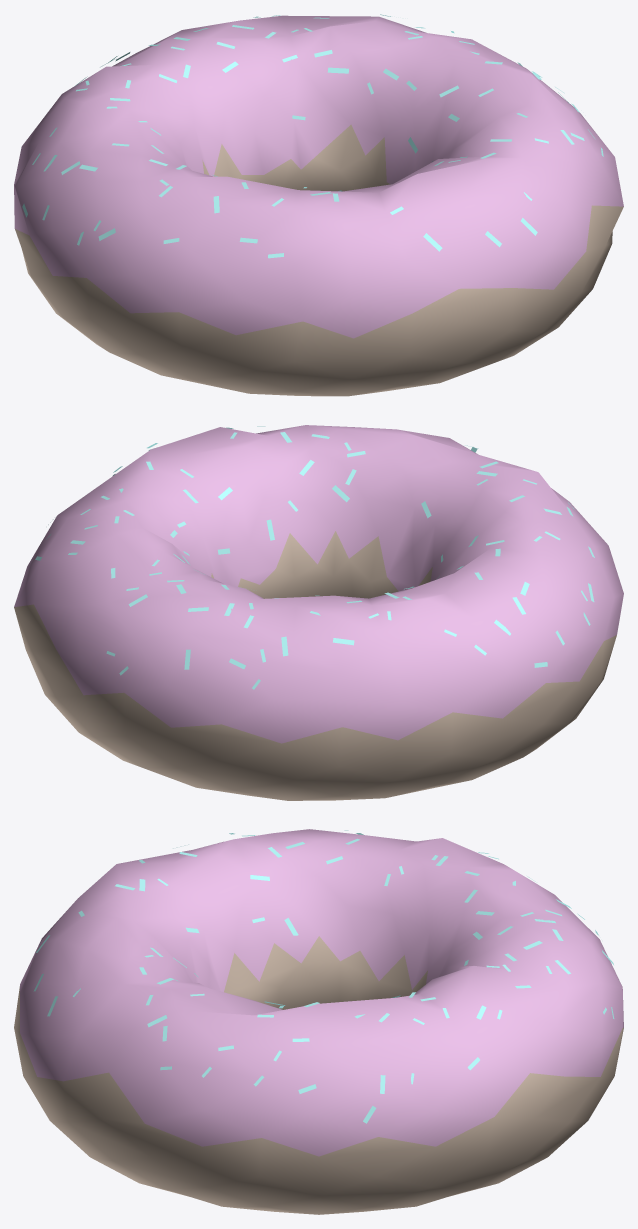
The model's file is Donut.fbx.
3 renders of one model, top to bottom at view 1: azimuth 30°, elevation 25°; view 2: azimuth 150°, elevation 25°; view 3: azimuth 270°, elevation 25°, orthographic. The views are drawn at different scales.
Parts seen in each view (by area): view 1: Donut, Sprinkles; view 2: Donut, Sprinkles; view 3: Donut, Sprinkles.
Boxes of the visible parts, x1,y1,x2,y2 form: Donut: (14,15,623,396); Sprinkles: (22,14,603,258); Donut: (14,425,623,800); Sprinkles: (35,426,594,689); Donut: (14,829,623,1214); Sprinkles: (33,830,614,1123).
Bounding box in the file's own units: 150 × 55.21 × 150.
